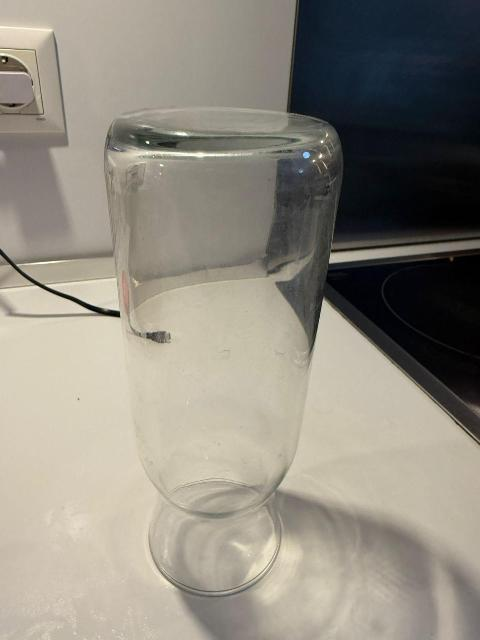Cam: (100, 99, 340, 600)
